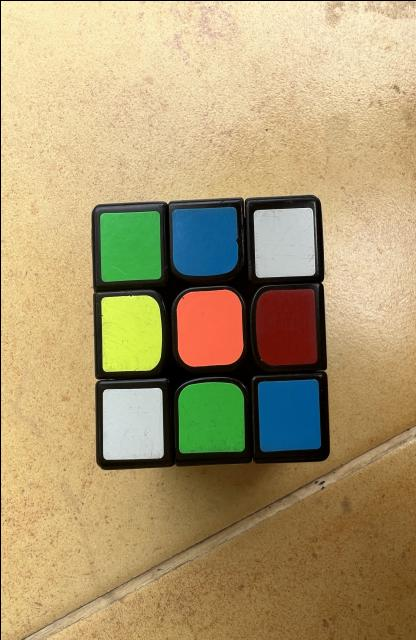Blue: (257, 379, 321, 451), (171, 206, 237, 275)
Green: (178, 381, 244, 452), (99, 210, 160, 281)
Orange: (176, 289, 243, 366)
Red: (255, 288, 316, 365)
White: (252, 206, 314, 278), (102, 386, 162, 459)
Yellow: (100, 295, 161, 371)
